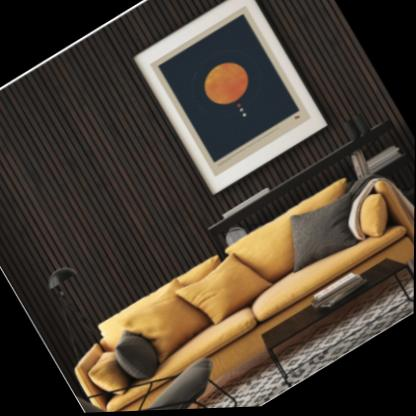Sofa: (57, 147, 415, 414)
Wall Panel: (0, 0, 416, 366)
